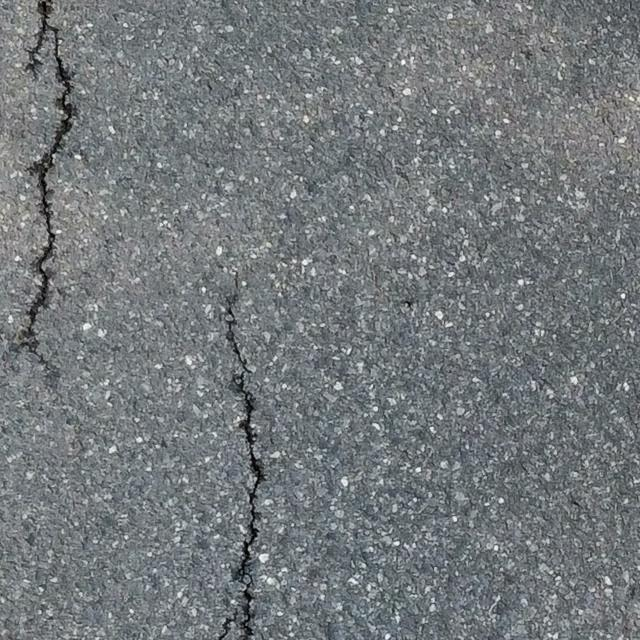LongitudinalCrack: (7, 1, 79, 360), (222, 270, 266, 640)
